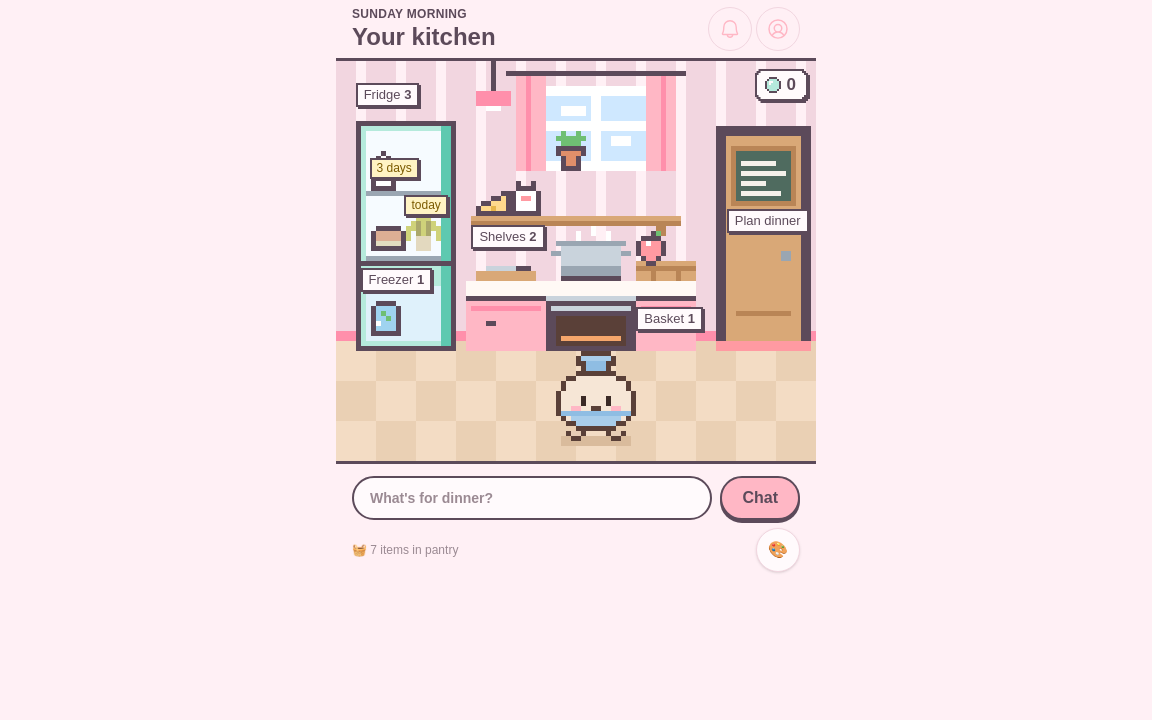
it: opening a place › Basket opens its own sheet, on its own tab
Click the button with aria-label "Basket, 1 item".
click(668, 280)  # box [631,226,704,334]
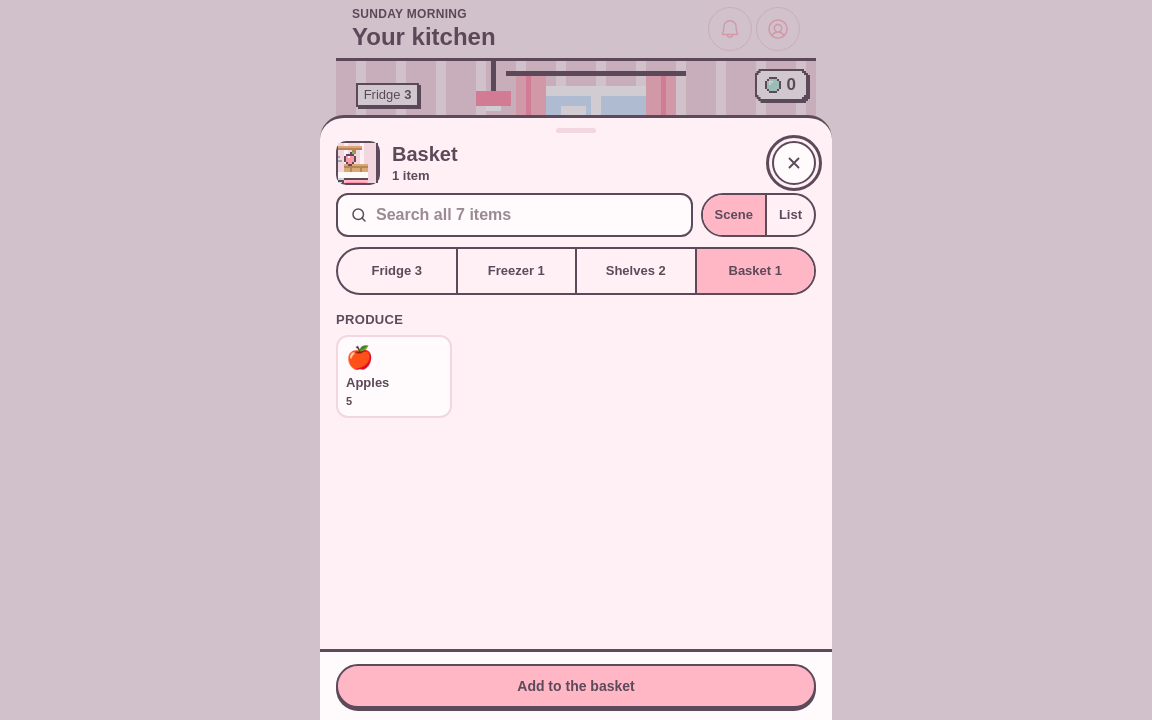
Now the heading "Basket" is shown, box [392,143,458,165]
